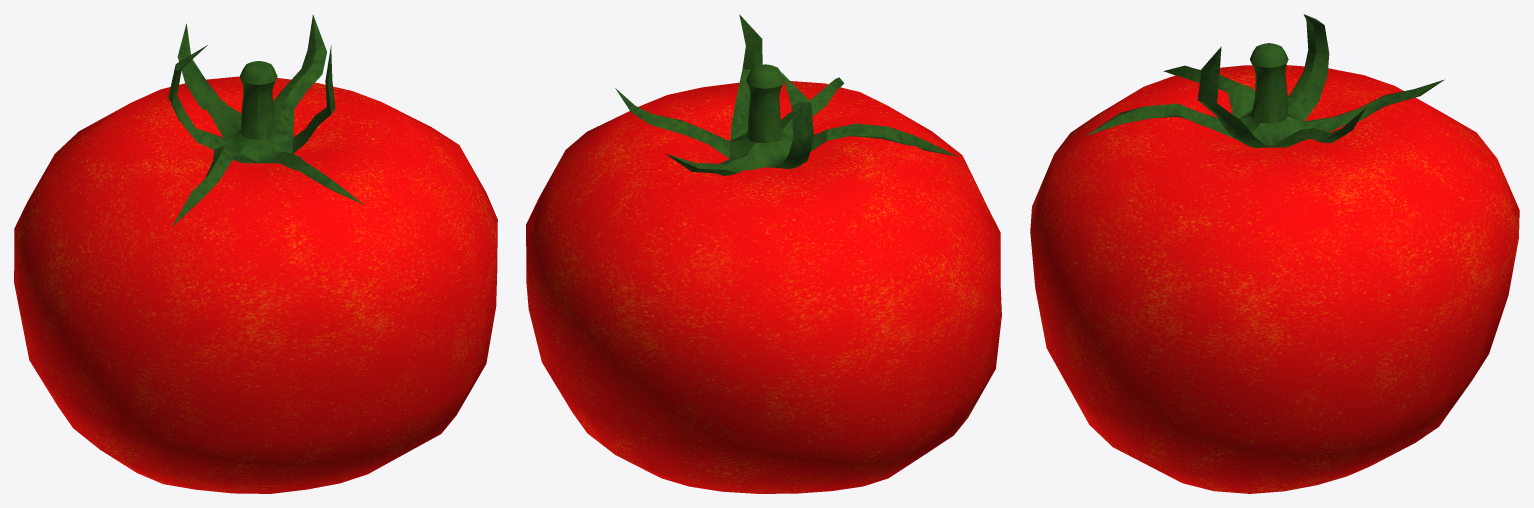
Rendered from tomato08.fbx.
3 views of the same model, side by side, from view 1: azimuth 30°, elevation 25°; view 2: azimuth 150°, elevation 25°; view 3: azimuth 270°, elevation 25° (orthographic). The views are drawn at different scales.
Visible parts, largest first — view 1: Tomato08; view 2: Tomato08; view 3: Tomato08.
Part boxes in pixels (x1,y1,x2,y2): Tomato08: [14, 14, 497, 493]; Tomato08: [526, 14, 1001, 493]; Tomato08: [1030, 14, 1519, 493].
Size of the model in its own units: 7.22 by 7.1 by 7.15.
1 material, 1 textured.
